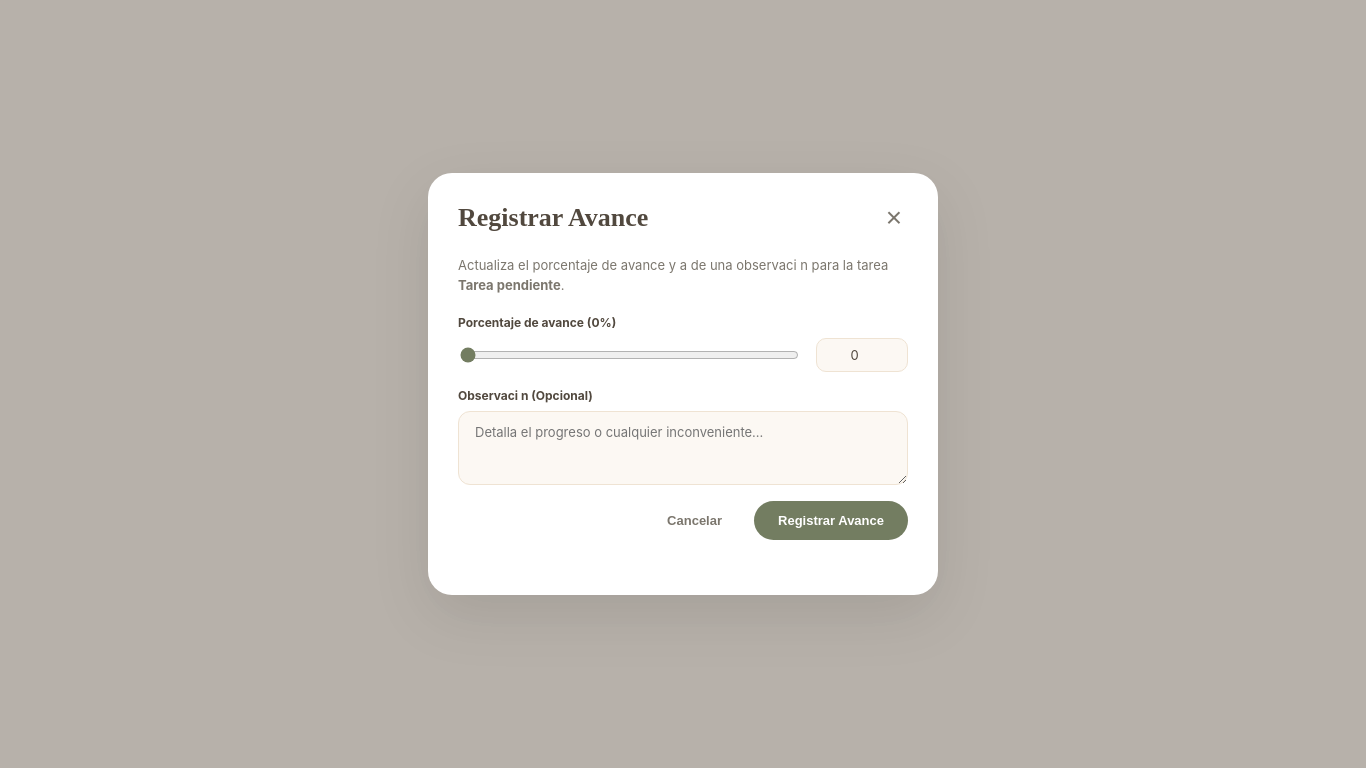
Test case: RegistrarAvanceModal › muestra el mensaje de error si el servicio falla
Replace the text in the number field labelled "Porcentaje de avance (0%)" with "50". click: (862, 355)
box: x1=816 y1=338 x2=908 y2=372
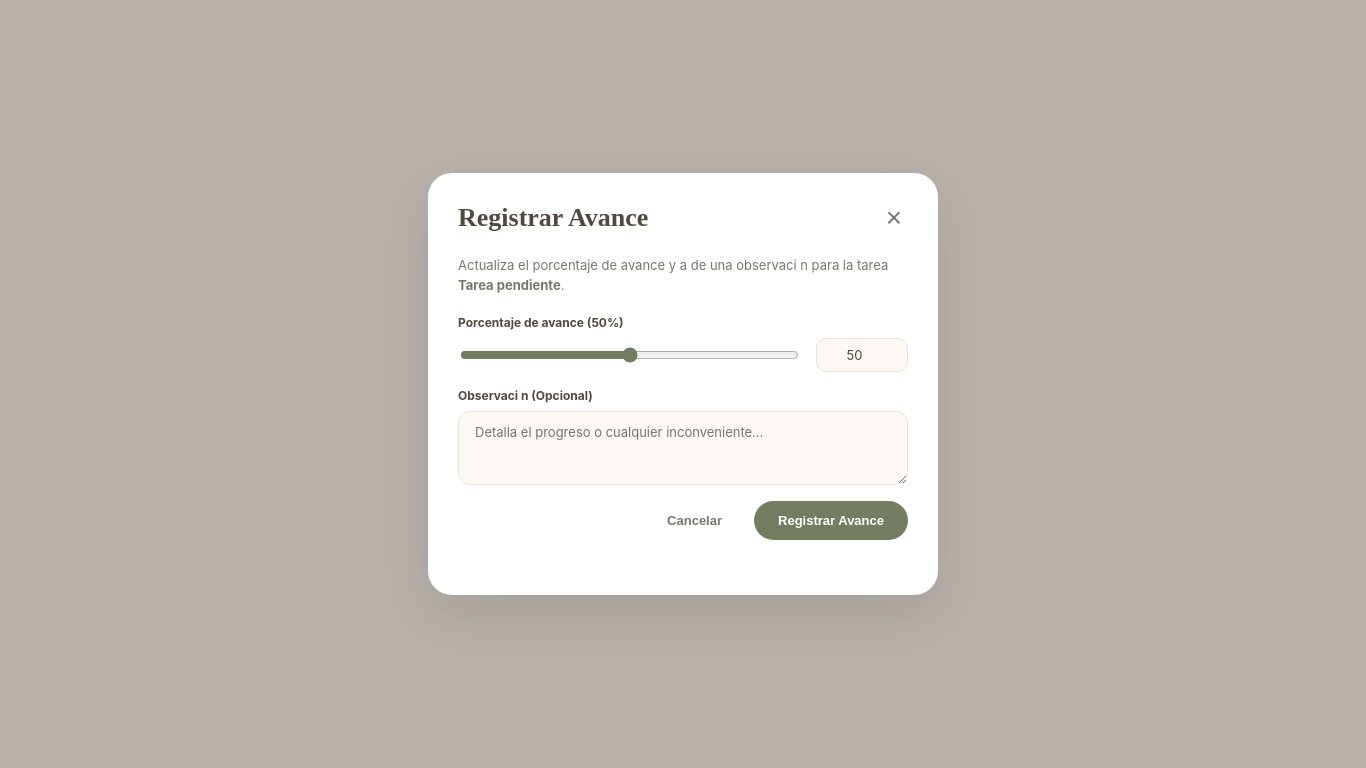
Submit the form, box x1=458 y1=315 x2=908 y2=540
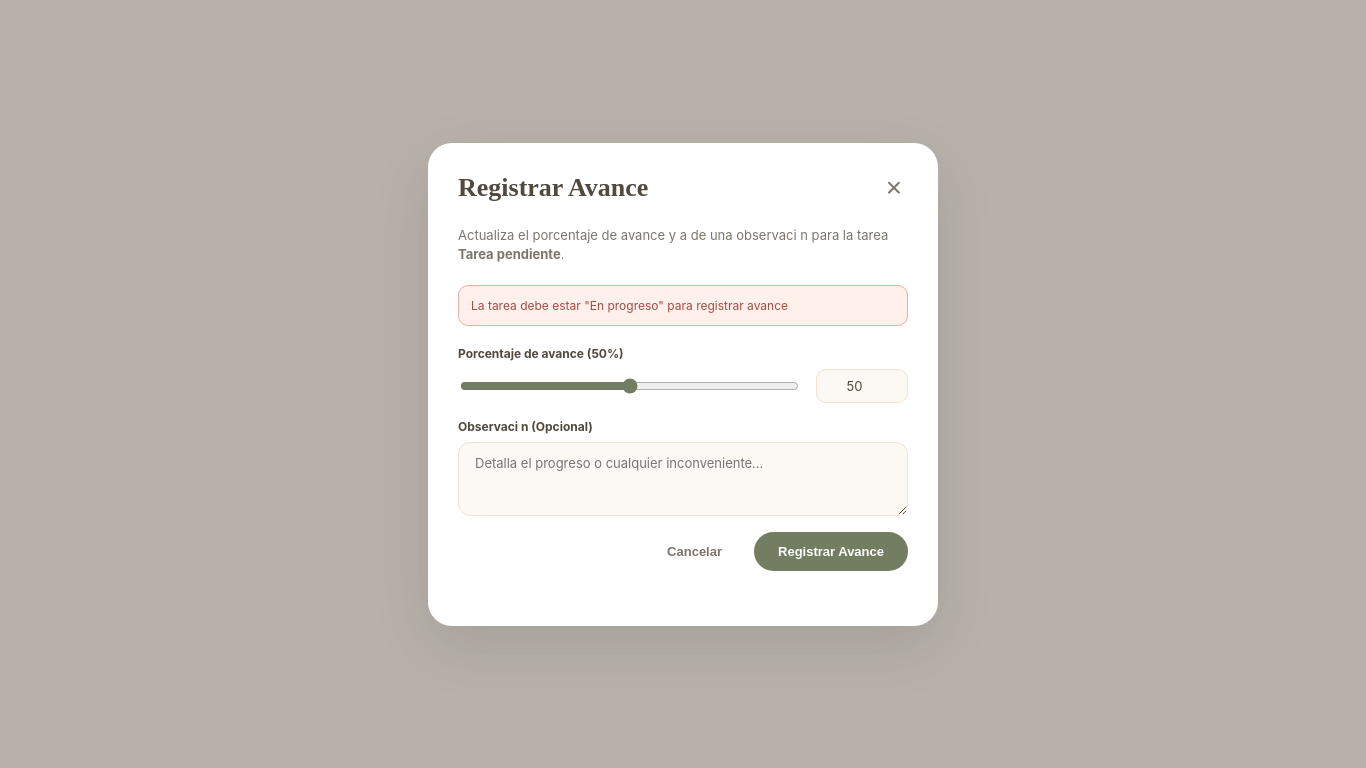
Expected: the message with class "modal-error" shows "La tarea debe estar \"En progreso\"", x1=471 y1=298 x2=788 y2=312
